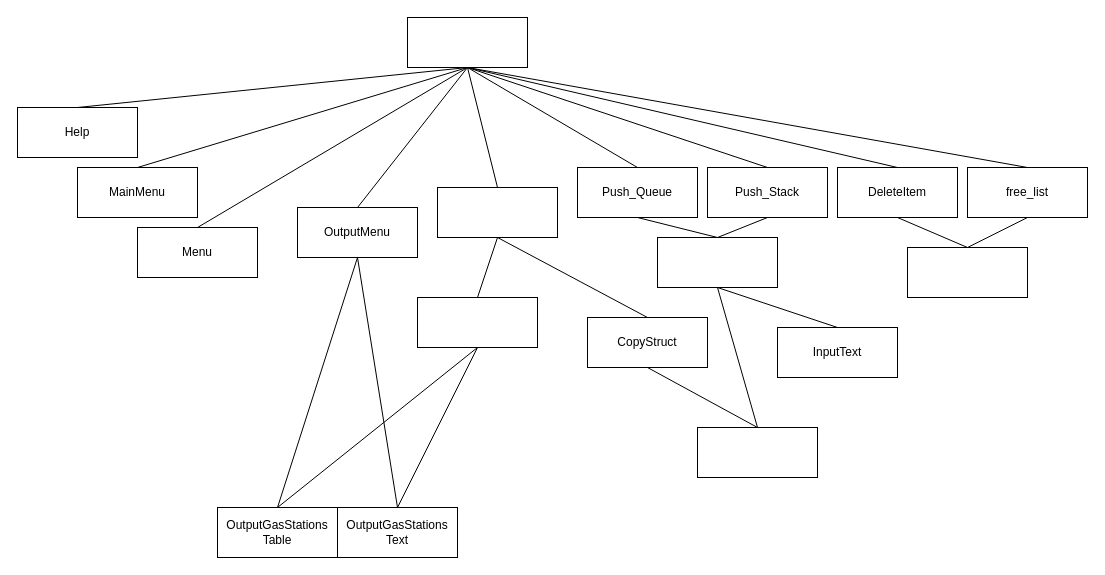
This 1105x575 diagram has some shape labels left out. Here are the shapes that lost their labels. From the top down, the box of each, then its label:
(406, 16, 528, 68): main
(436, 186, 558, 238): GetItem
(656, 236, 778, 288): InputStation
(906, 246, 1028, 298): free_station
(416, 296, 538, 348): OutputItem
(696, 426, 818, 478): PrepareStruct
